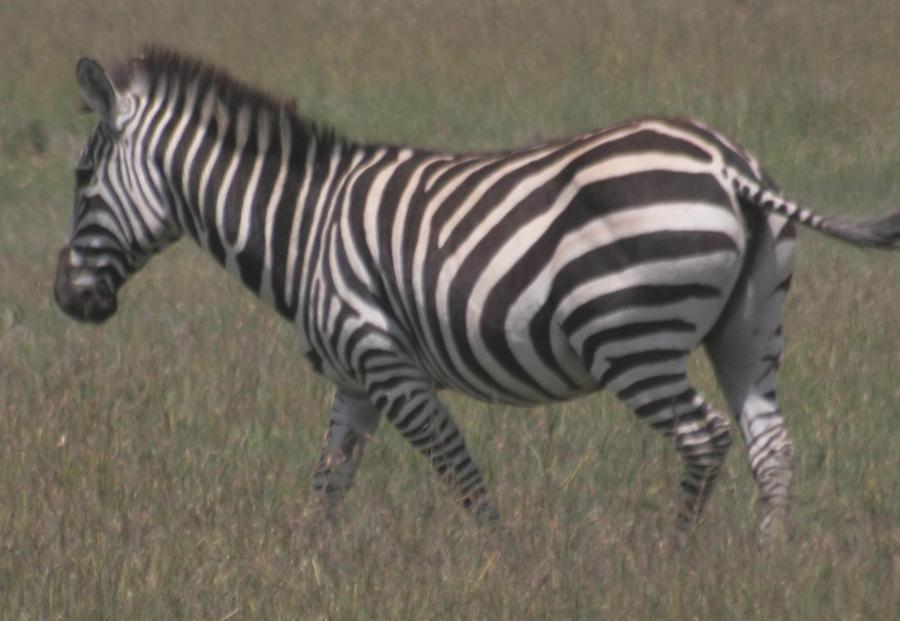zebra_plains: (245, 114, 729, 426)
